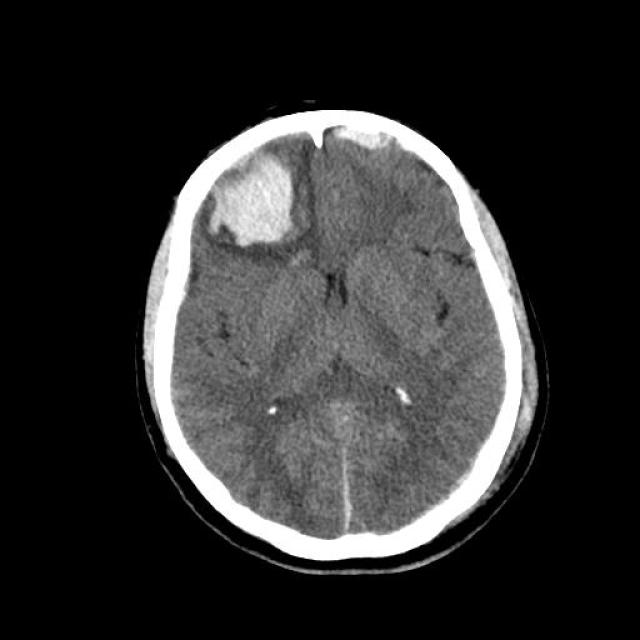Intraparenchymal: (180, 142, 321, 268)
Subdural: (329, 102, 421, 160)
